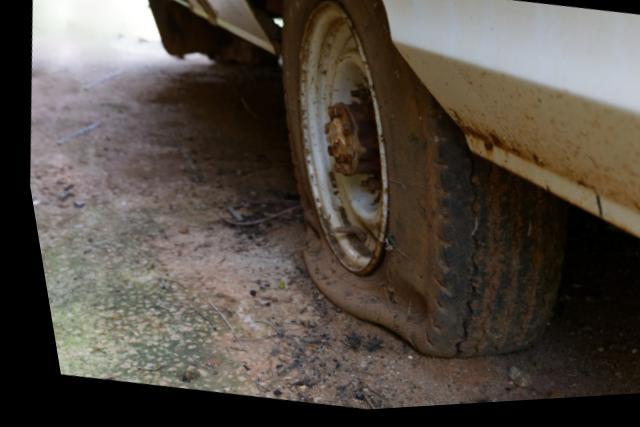tire flat: (278, 0, 555, 360)
